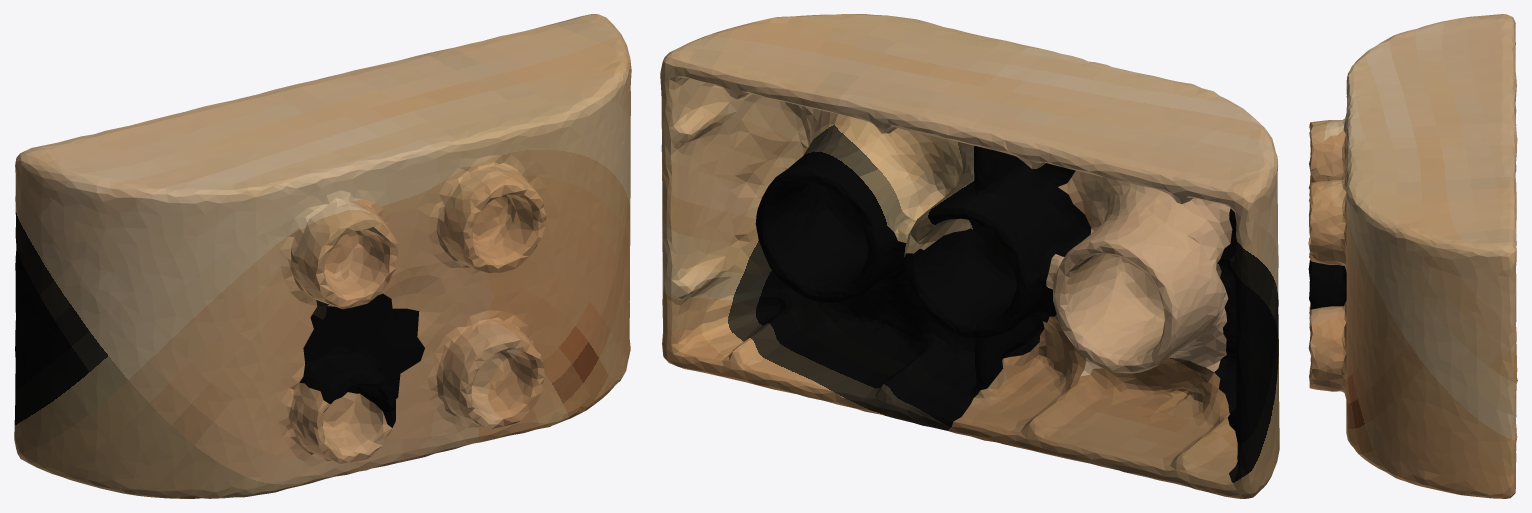
3 renders of one model, left to right at view 1: azimuth 30°, elevation 25°; view 2: azimuth 150°, elevation 25°; view 3: azimuth 270°, elevation 25°, orthographic. The views are drawn at different scales.
Size of the model in its own units: 0.0641 by 0.0325 by 0.0239.
